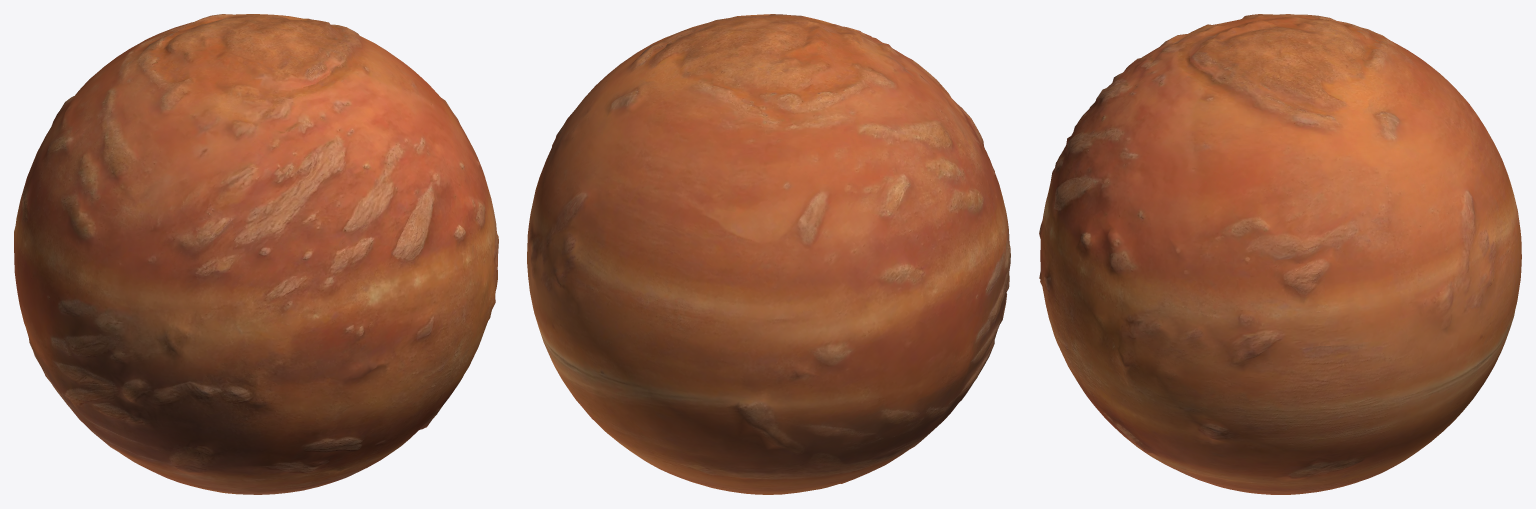
File: dry_planet_5.glb
3 views of the same model, side by side, from view 1: azimuth 30°, elevation 25°; view 2: azimuth 150°, elevation 25°; view 3: azimuth 270°, elevation 25° (orthographic).
Parts seen in each view (by area): view 1: Mesh_0.018; view 2: Mesh_0.018; view 3: Mesh_0.018.
Boxes of the visible parts, <box> form: Mesh_0.018: <box>14,14,498,494</box>; Mesh_0.018: <box>527,14,1010,494</box>; Mesh_0.018: <box>1039,14,1521,494</box>.
Bounding box in the file's own units: 1.99 × 2 × 1.99.
1 material, 1 textured.
